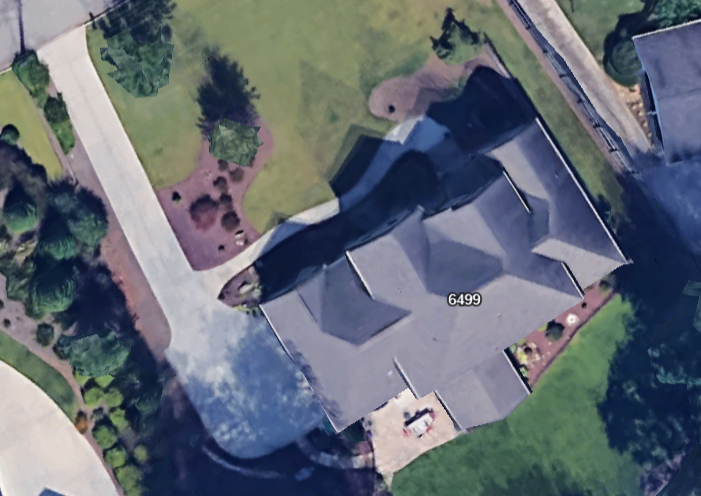driveway: (0, 24, 329, 477)
